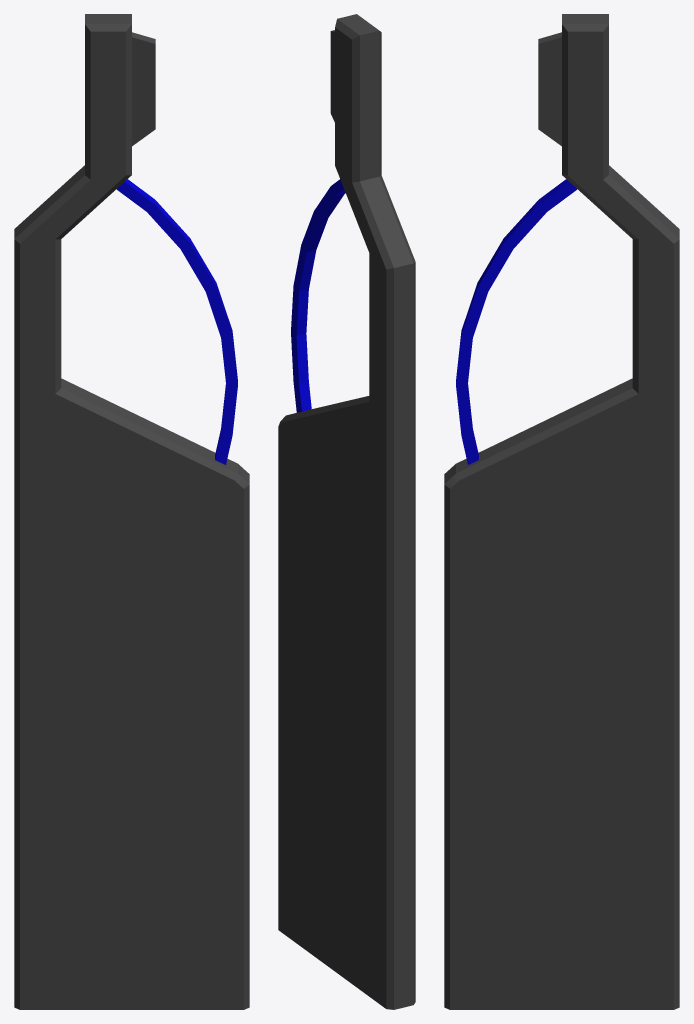
File: HangerColumn.fbx
3 renders of one model, left to right at view 1: azimuth 90°, elevation 25°; view 2: azimuth 210°, elevation 25°; view 3: azimuth 270°, elevation 25°, orthographic. The views are drawn at different scales.
Parts seen in each view (by area): view 1: Main, RoundAccent, PipePart; view 2: Main, RoundAccent, PipePart; view 3: Main, RoundAccent, PipePart.
Part boxes in pixels (x1,y1,x2,y2): Main: (14,14,249,1009); RoundAccent: (116,179,237,464); PipePart: (132,32,155,146); Main: (278,14,415,1009); RoundAccent: (291,179,345,412); PipePart: (330,30,334,122); Main: (444,14,679,1009); RoundAccent: (456,179,577,464); PipePart: (538,32,561,146).
Bounding box in the file's own units: 3 × 92.11 × 20.
